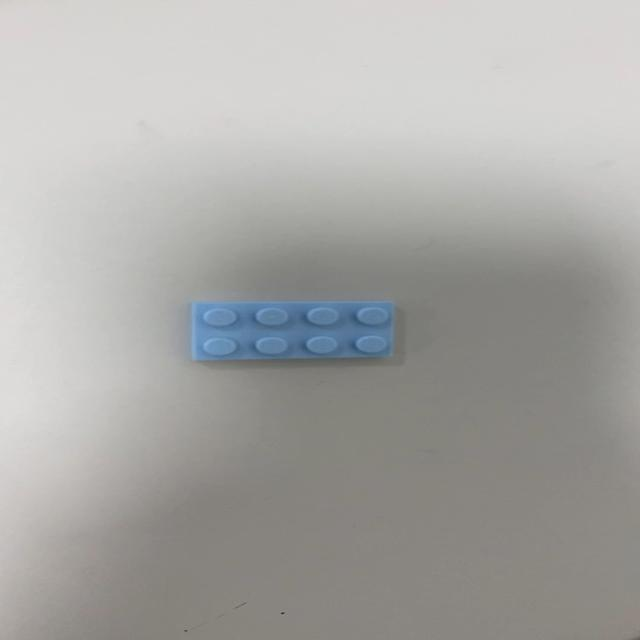C4x2x0: (189, 301, 395, 362)
